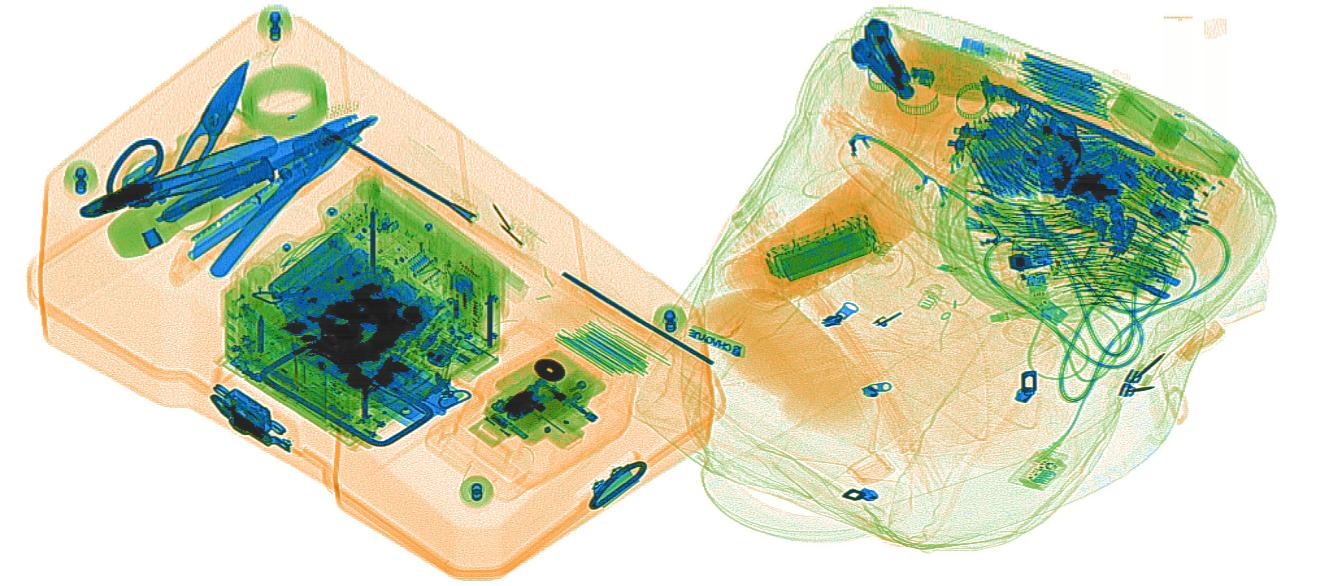battery: (775, 220, 873, 283)
knife: (164, 129, 361, 287)
scissors: (113, 56, 255, 240)
